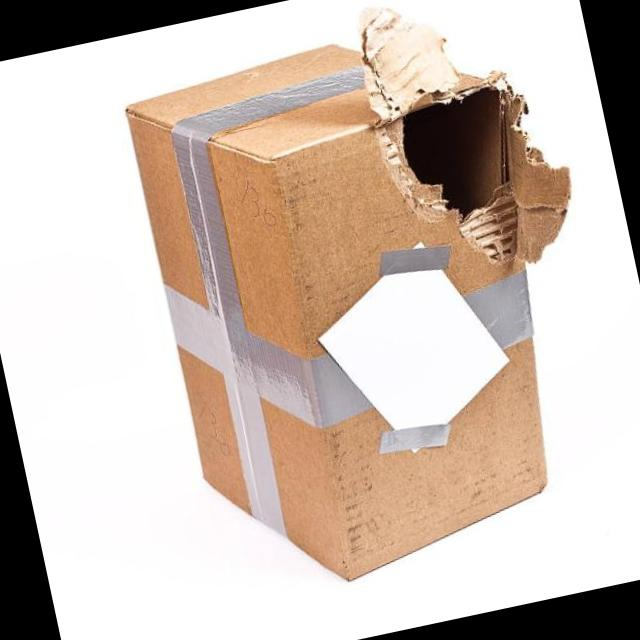box: (126, 4, 571, 579)
opened: (358, 2, 571, 265)
